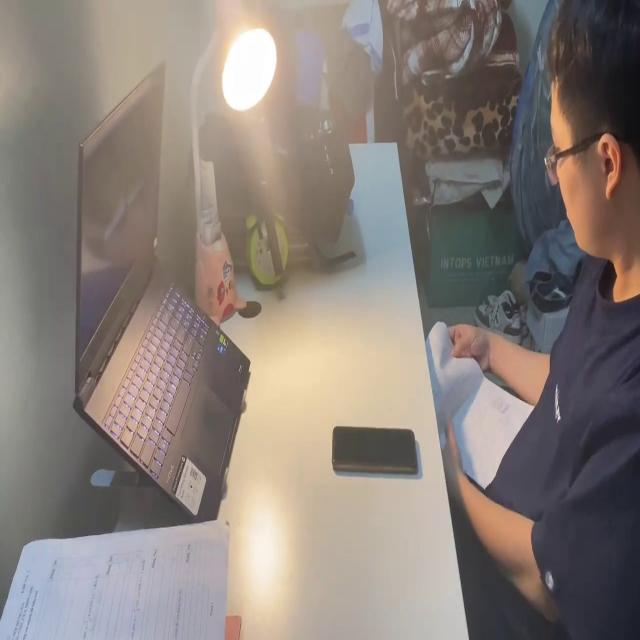book: (0, 526, 237, 640), (426, 314, 541, 494)
laptop: (68, 56, 252, 521)
phone: (330, 416, 420, 478)
student: (434, 0, 640, 640)
